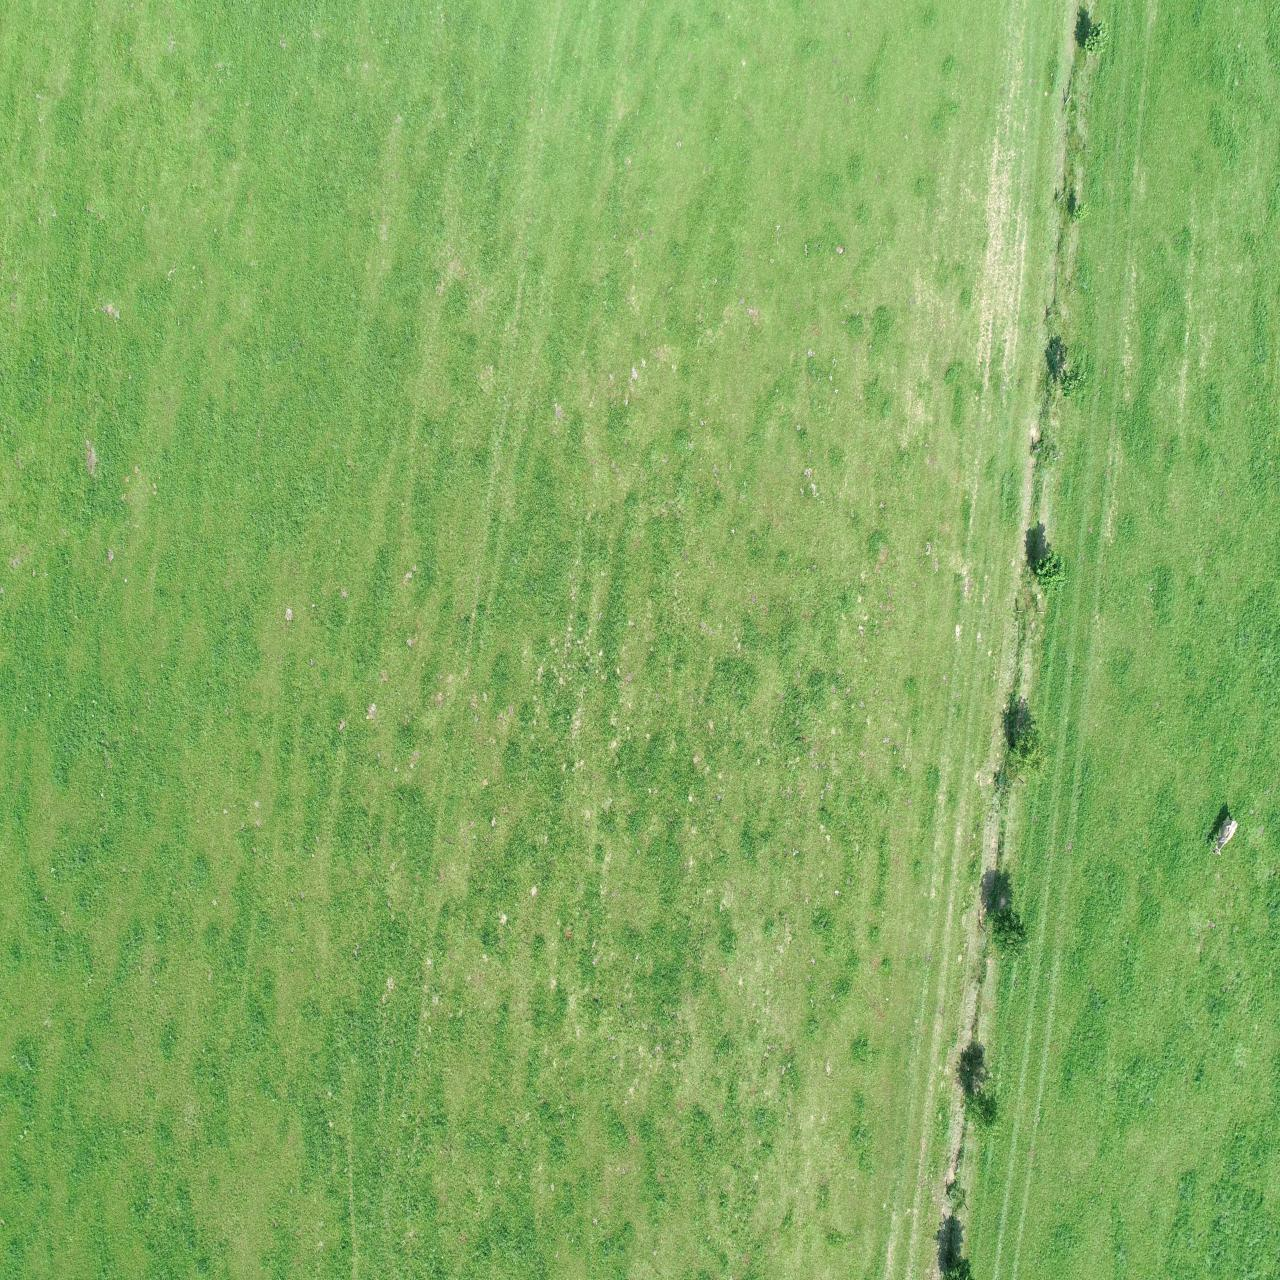cow: (1210, 818, 1239, 859)
